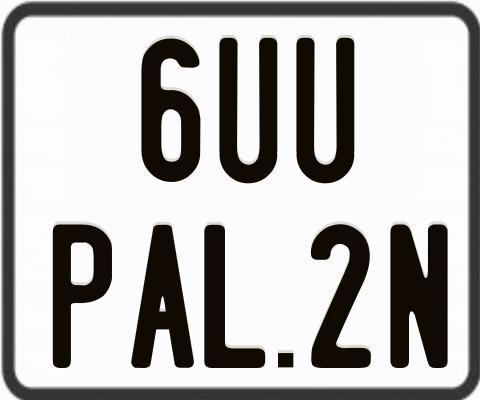2: (309, 222, 371, 368)
6: (139, 36, 199, 186)
A: (129, 223, 197, 371)
L: (203, 224, 266, 373)
N: (388, 224, 451, 371)
P: (50, 222, 112, 370)
U: (216, 37, 280, 187), (293, 36, 357, 181)
